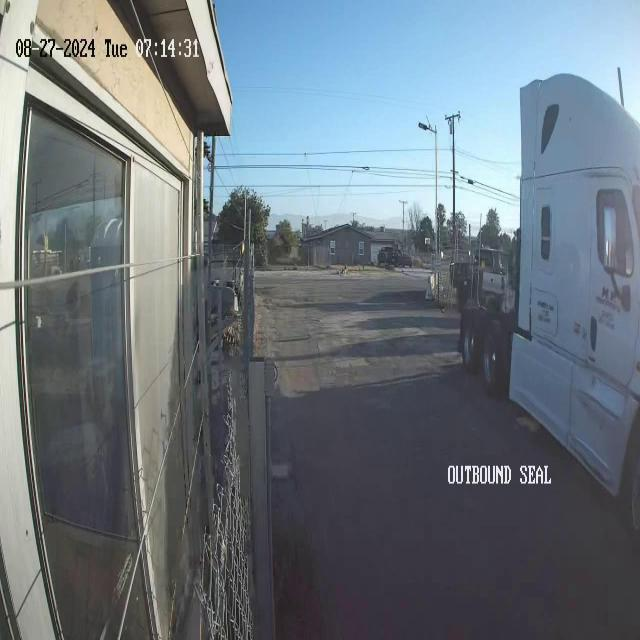TRUCK_IN: (458, 75, 640, 540)
